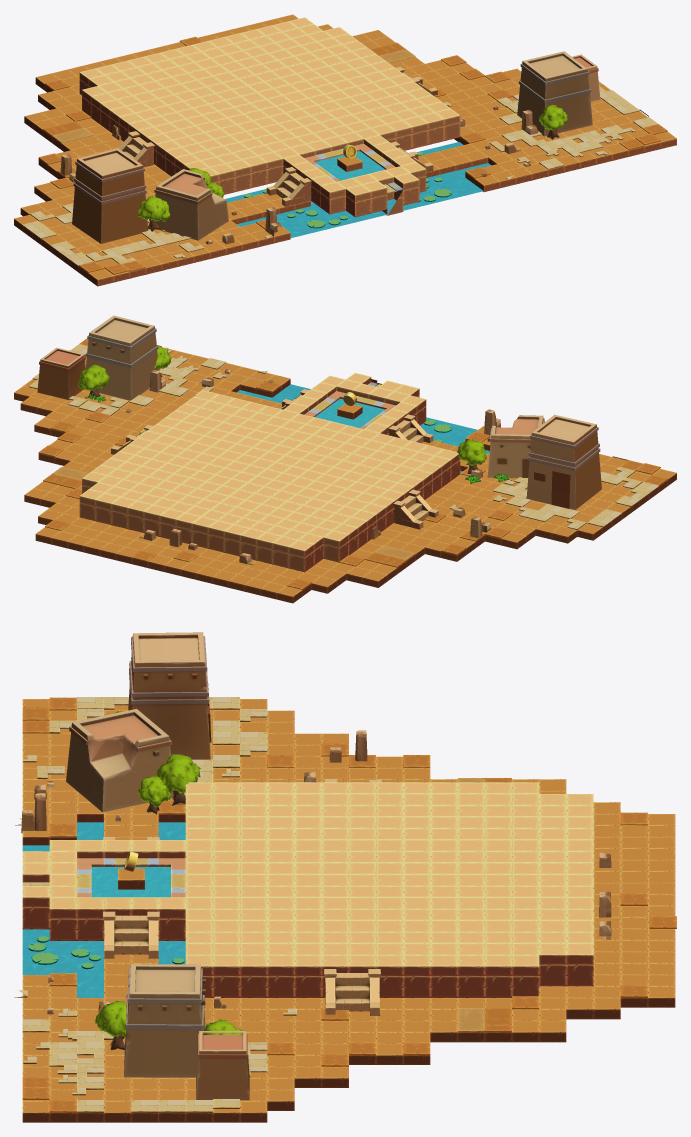
The model's file is courtyard.glb.
3 renders of one model, top to bottom at view 1: azimuth 30°, elevation 25°; view 2: azimuth 150°, elevation 25°; view 3: azimuth 270°, elevation 25°, orthographic. The views are drawn at different scales.
Parts seen in each view (by area): view 1: Stage Top.001, Stage.001, Set_NhaPhu_SG, Set_ONen_v02_SG, Water_Water_SG_0.001, Set_ONen_v01_SG, Set_M_Oak01, Set_ONen_v03_SG, Da1_Da_SG_0.001; view 2: Stage Top.001, Stage.001, Set_NhaPhu_SG, Set_ONen_v02_SG, Set_ONen_v01_SG, Water_Water_SG_0.001, Da1_Da_SG_0.001, Set_M_Oak01, Set_ONen_v03_SG; view 3: Stage Top.001, Stage.001, Set_NhaPhu_SG, Set_ONen_v02_SG, Water_Water_SG_0.001, Set_ONen_v01_SG, Set_M_Oak01, Da1_Da_SG_0.001, Set_ONen_v03_SG.
Part boxes in pixels (x1,y1,x2,y2): Stage Top.001: [79, 17, 460, 217]; Stage.001: [14, 14, 676, 286]; Set_NhaPhu_SG: [72, 51, 600, 243]; Set_ONen_v02_SG: [22, 36, 667, 274]; Water_Water_SG_0.001: [225, 142, 491, 237]; Set_ONen_v01_SG: [118, 66, 437, 215]; Set_M_Oak01: [137, 104, 567, 231]; Set_ONen_v03_SG: [244, 143, 451, 228]; Da1_Da_SG_0.001: [60, 106, 538, 244]; Stage Top.001: [79, 373, 460, 572]; Stage.001: [14, 347, 676, 603]; Set_NhaPhu_SG: [37, 315, 601, 509]; Set_ONen_v02_SG: [28, 338, 667, 589]; Set_ONen_v01_SG: [111, 379, 438, 529]; Water_Water_SG_0.001: [237, 384, 489, 472]; Da1_Da_SG_0.001: [126, 369, 500, 565]; Set_M_Oak01: [77, 346, 486, 473]; Set_ONen_v03_SG: [304, 391, 451, 442]; Stage Top.001: [22, 782, 593, 997]; Stage.001: [22, 699, 675, 1122]; Set_NhaPhu_SG: [66, 632, 249, 1100]; Set_ONen_v02_SG: [14, 697, 676, 1112]; Water_Water_SG_0.001: [22, 822, 185, 997]; Set_ONen_v01_SG: [103, 779, 381, 1015]; Set_M_Oak01: [95, 711, 242, 1049]; Da1_Da_SG_0.001: [21, 730, 611, 1014]; Set_ONen_v03_SG: [28, 858, 185, 969].
Size of the model in its own units: 3.61 by 0.43 by 2.44.
Materials: 10 (10 with a texture image).
